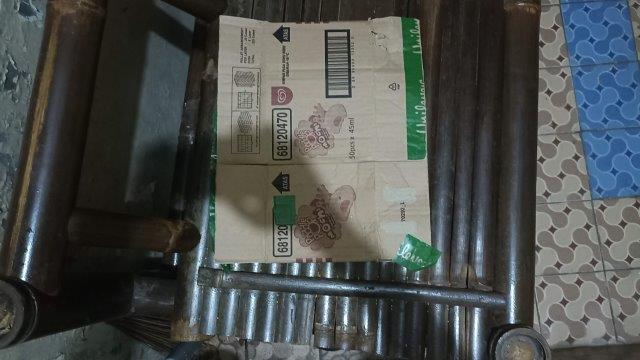kardus: (216, 16, 431, 261)
